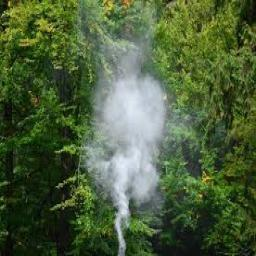Low smoke: (87, 60, 169, 254)
